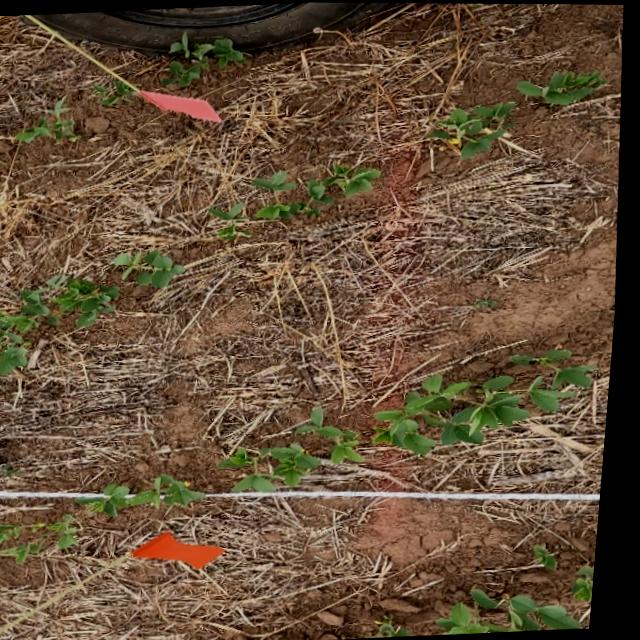soy_plant: (383, 348, 598, 454), (0, 275, 122, 374), (255, 163, 383, 220), (447, 588, 591, 634), (77, 474, 212, 517), (227, 443, 328, 492), (163, 33, 245, 88), (432, 103, 515, 157), (0, 514, 87, 563), (303, 407, 369, 462), (11, 96, 79, 144), (518, 72, 604, 105), (119, 250, 187, 288), (214, 203, 253, 239), (95, 81, 134, 106), (581, 566, 603, 601), (383, 621, 422, 637), (543, 546, 565, 568), (144, 92, 176, 107)
